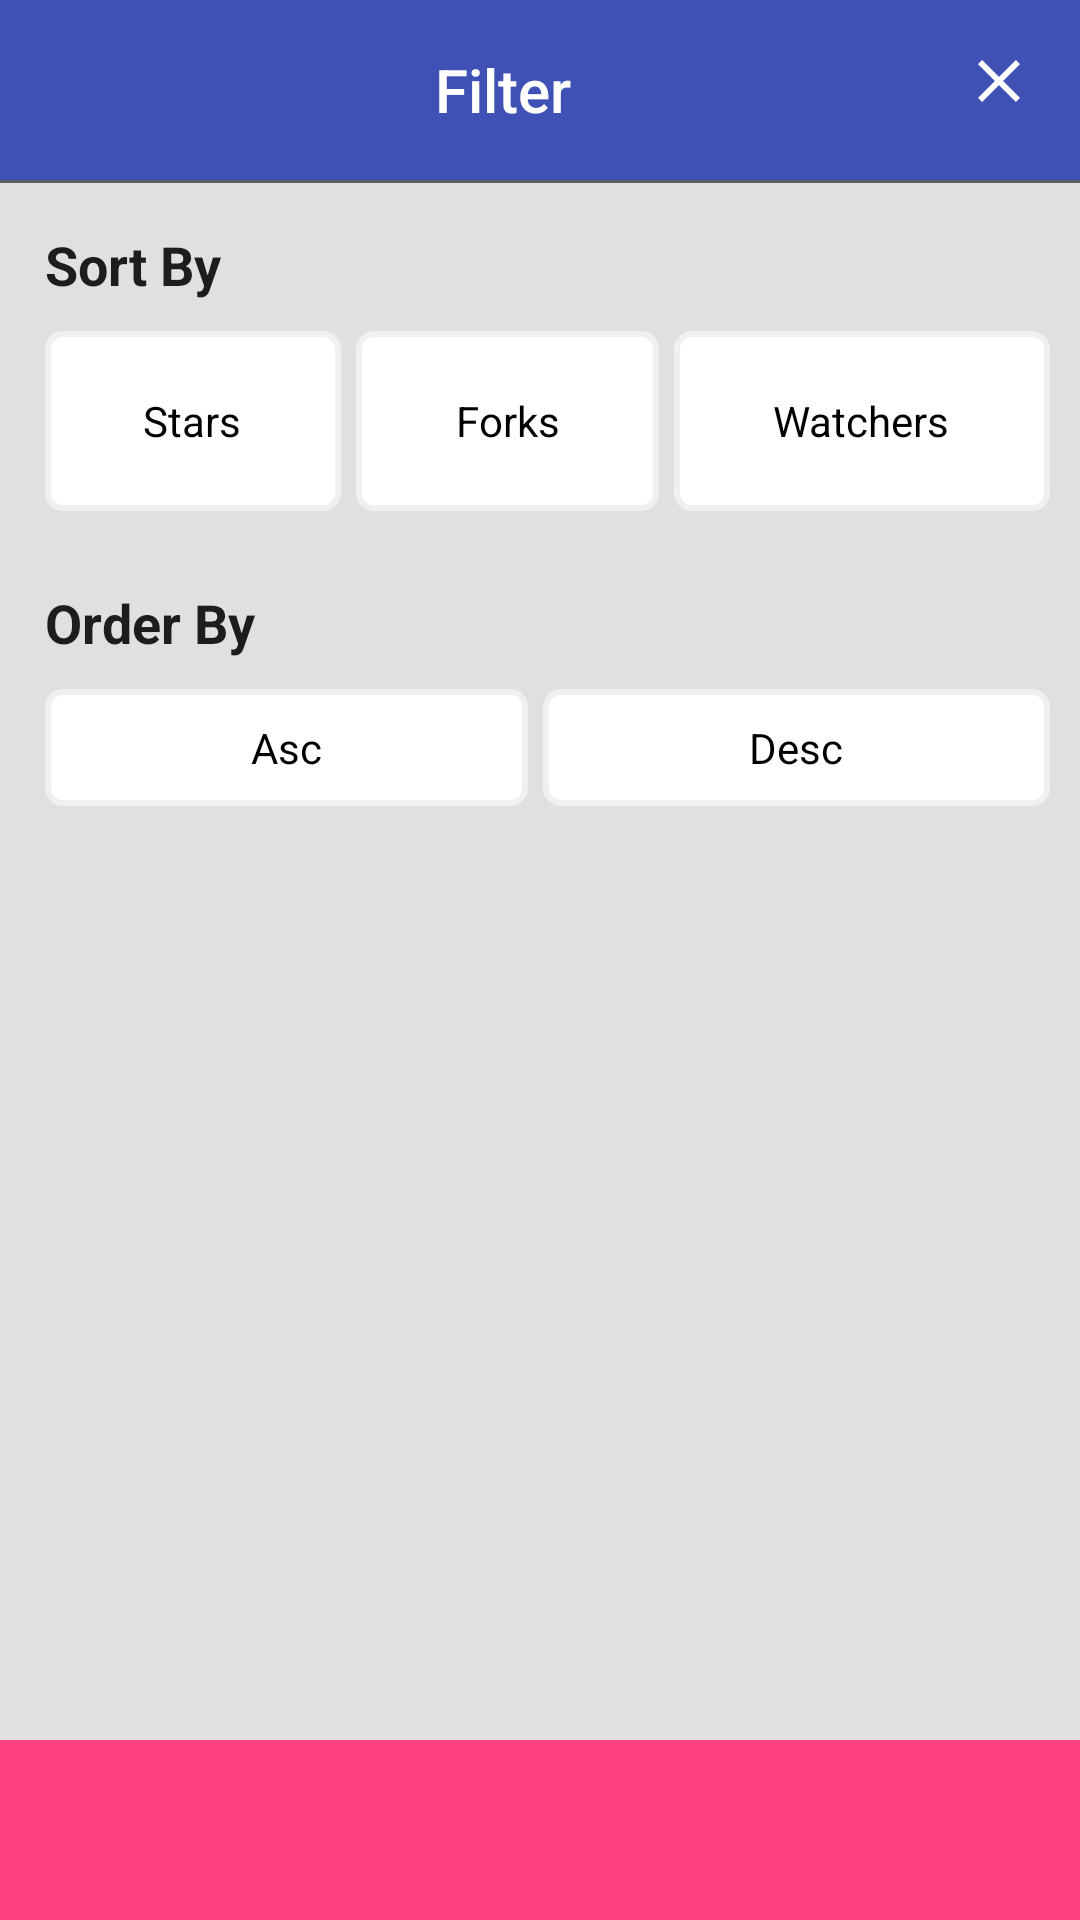

Screen size 1080×1920. Icon name, then its center in pixels as (x=x, y=y):
close: (x=999, y=81)
